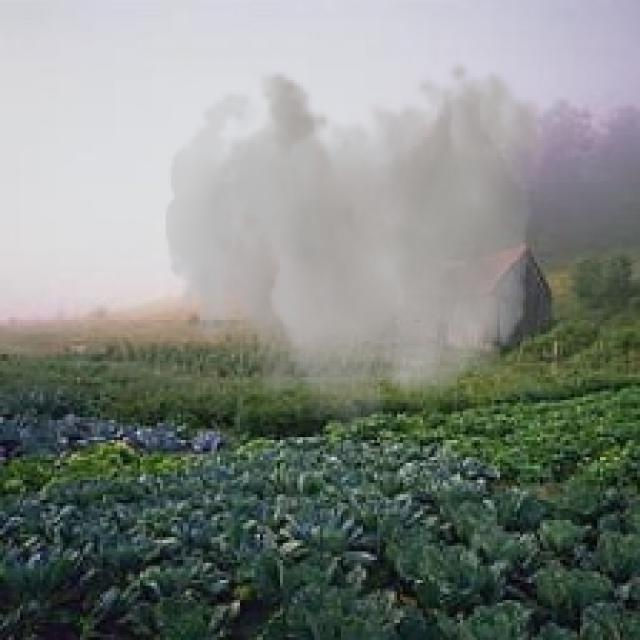smoke: (165, 60, 546, 449)
